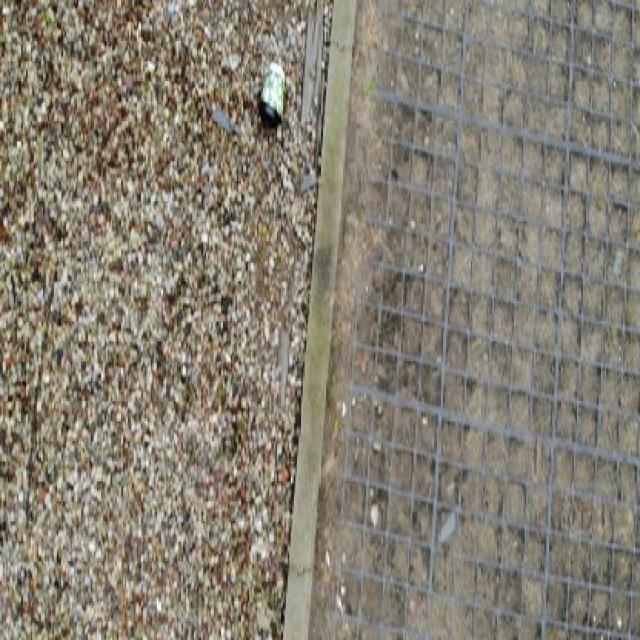Garbage: (257, 61, 284, 129)
